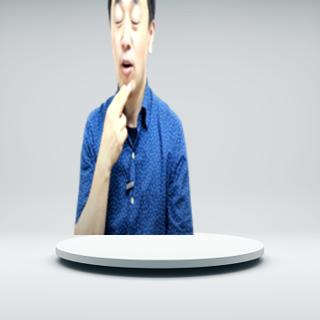DHAVE: (92, 79, 139, 168)
